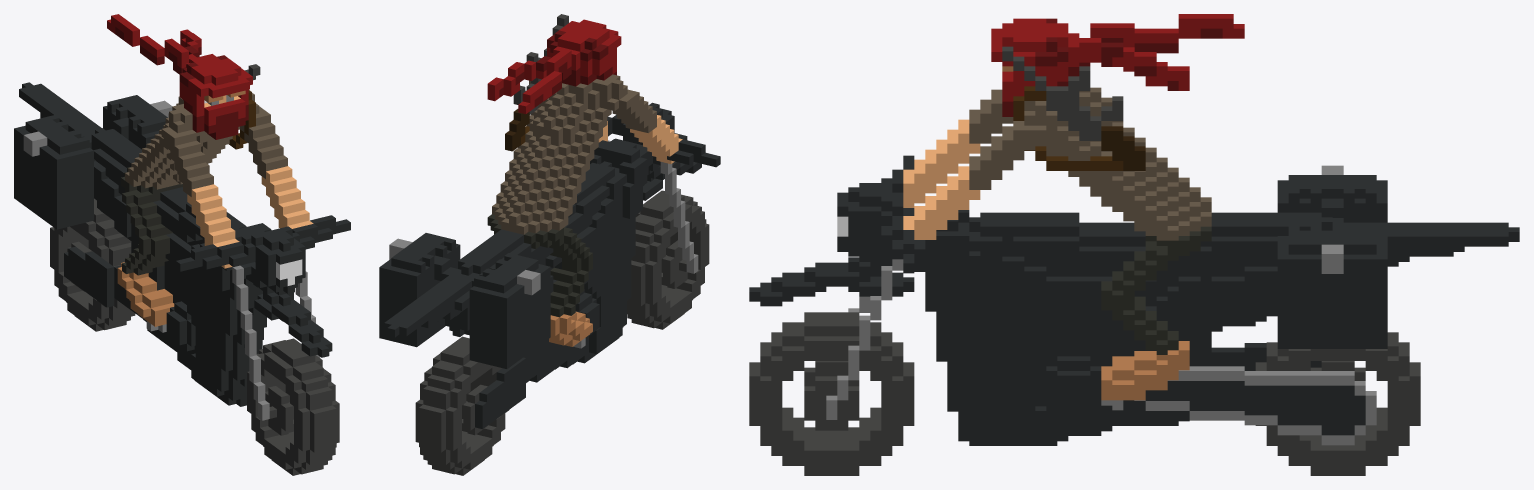
The model's file is moto.obj.
3 views of the same model, side by side, from view 1: azimuth 30°, elevation 25°; view 2: azimuth 150°, elevation 25°; view 3: azimuth 270°, elevation 25° (orthographic). The views are drawn at different scales.
Size of the model in its own units: 2.3 by 4.4 by 7.
1 material, 1 textured.
